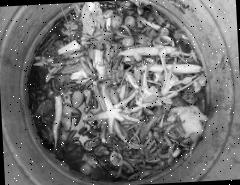organic: (98, 88, 138, 138), (115, 40, 181, 60), (90, 36, 114, 82), (68, 82, 88, 110)
